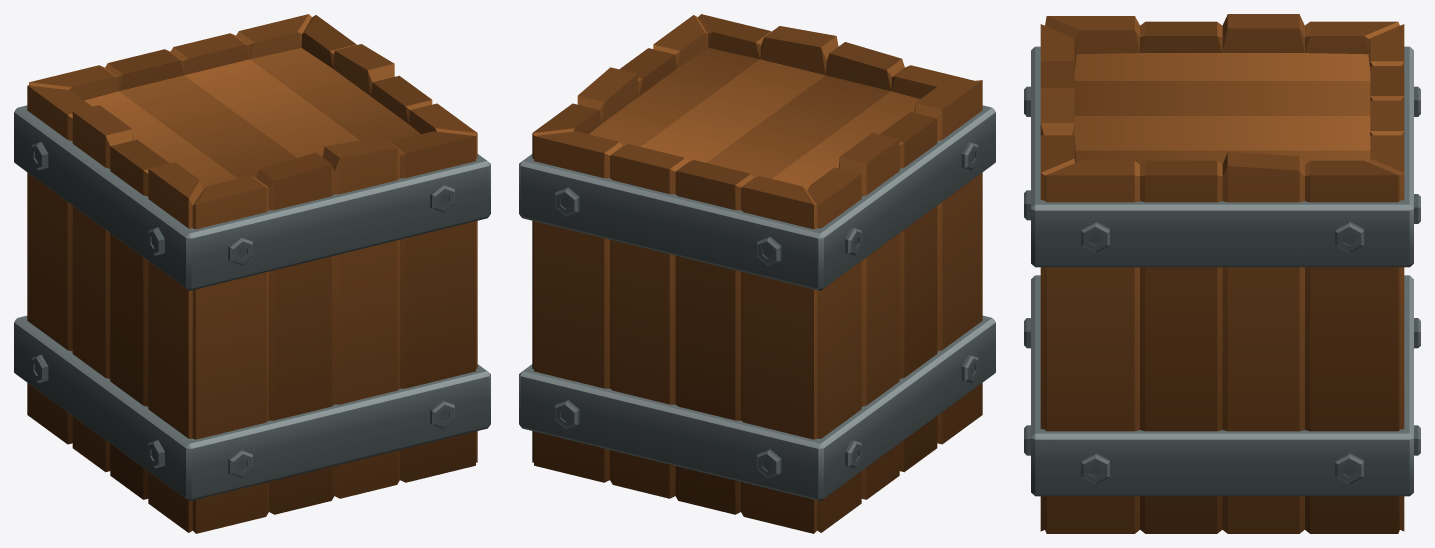
3 renders of one model, left to right at view 1: azimuth 30°, elevation 25°; view 2: azimuth 150°, elevation 25°; view 3: azimuth 270°, elevation 25°, orthographic. The views are drawn at different scales.
Visible parts, largest first — view 1: Box-1-5; view 2: Box-1-5; view 3: Box-1-5.
Boxes of the visible parts, left/top/right/bottom form: Box-1-5: left=14, top=14, right=490, bottom=533; Box-1-5: left=519, top=14, right=995, bottom=533; Box-1-5: left=1024, top=14, right=1420, bottom=533.
Bounding box in the file's own units: 101 × 104 × 101.
